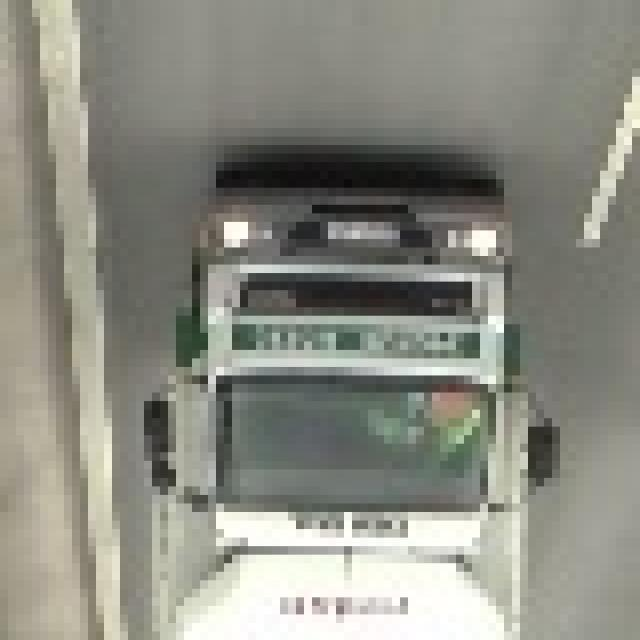truck: (144, 171, 568, 640)
